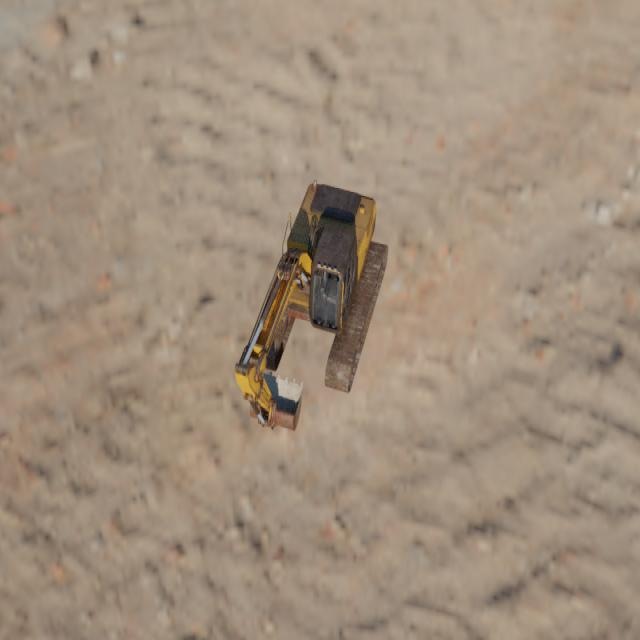excavator: (234, 178, 388, 430)
